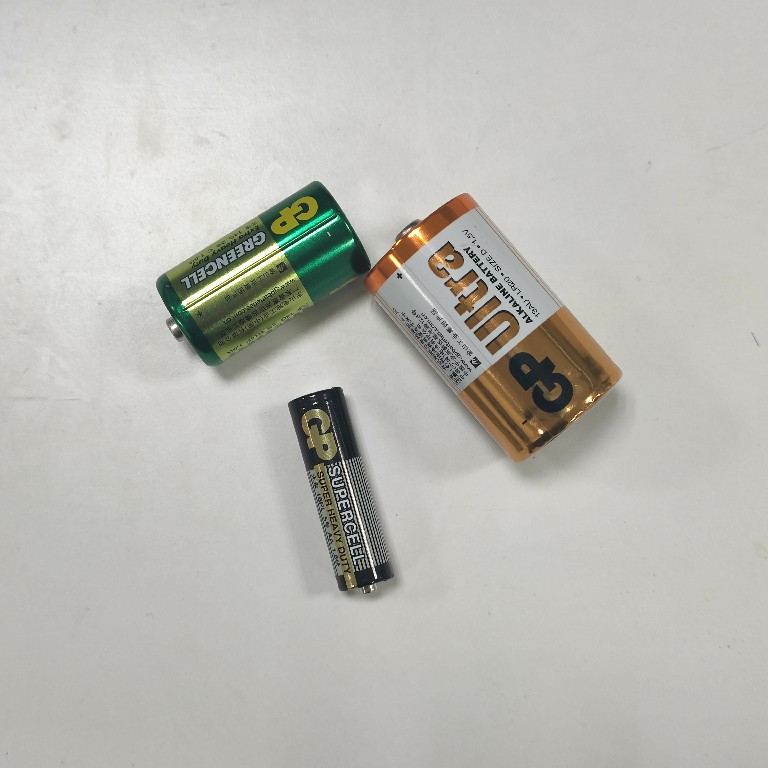charge: (358, 189, 628, 469), (152, 178, 377, 370), (284, 383, 399, 600)
